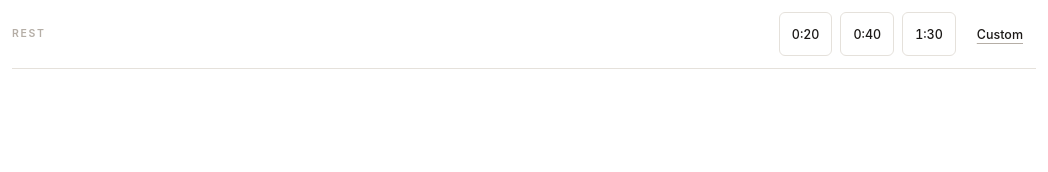
a custom rest — FUEL-126 › Custom swaps the presets for a box in the same row, and nothing opens
The width and height of the screenshot is (1048, 172).
Click the button "Custom" at (1000, 34), box [964, 12, 1036, 56]
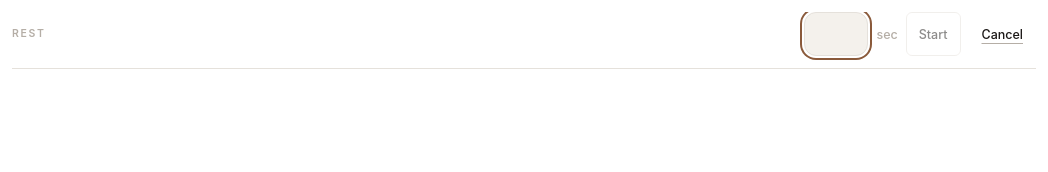
Result: the field named "Rest in seconds" is shown at [804, 12, 868, 56]
Result: the button "0:20" is gone
